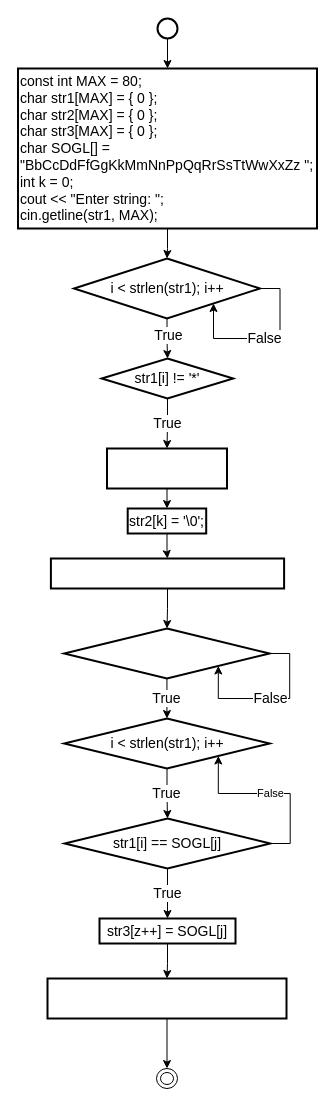
This 335x1106 diagram has some shape labels left out. Here are the shapes that lost their labels. From the top down, the centre of each, then its label:
[167,468]: str2[k++] = str1[i];
[167,573]: cout << "Result 1 = " << str2 << endl;
[166,653]: j < strlen(SOGL); j++
[166,998]: str3[z] = '\0'; cout << "Result 2 = " << str3 << endl;
